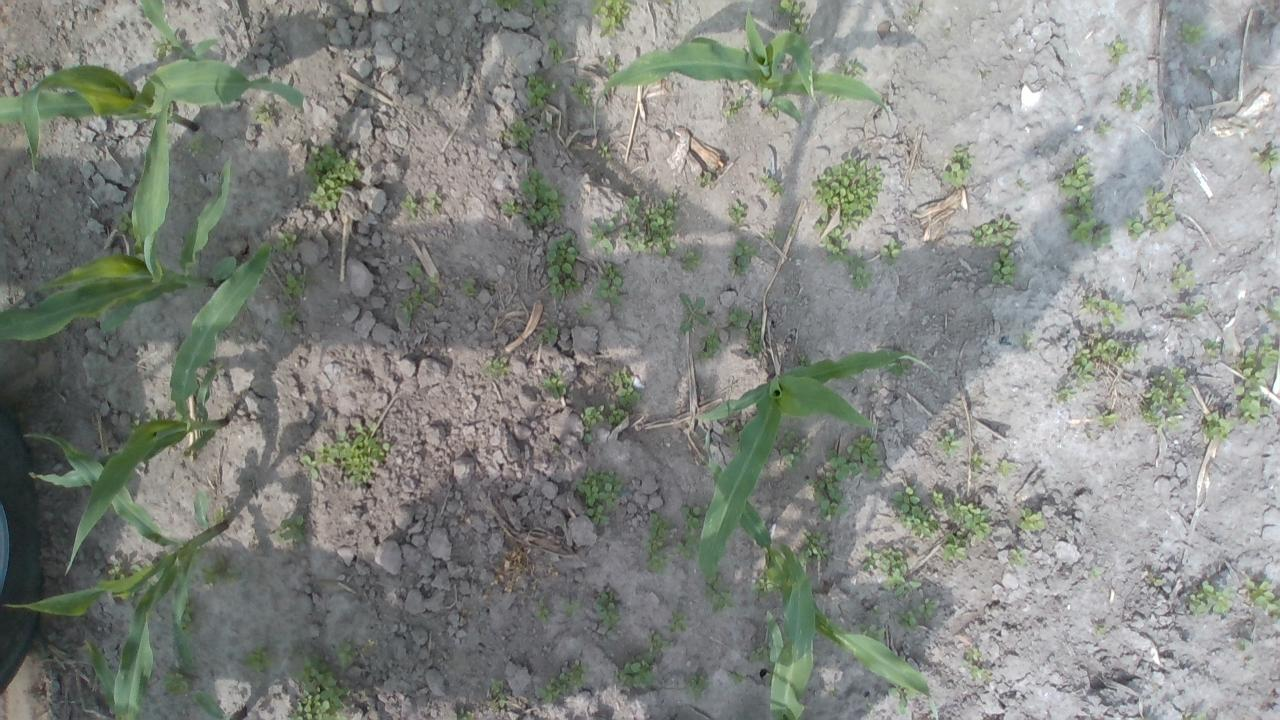Maize: (28, 241, 274, 580), (702, 427, 938, 720), (1, 427, 231, 720), (0, 84, 238, 342), (691, 345, 935, 580), (0, 39, 307, 171), (592, 8, 894, 138), (81, 632, 248, 720), (761, 543, 815, 720), (132, 0, 208, 59)
Weeds: (296, 419, 390, 486), (809, 155, 885, 232), (1052, 154, 1112, 250), (1232, 331, 1280, 425), (618, 188, 680, 258), (287, 654, 351, 720), (303, 142, 362, 212), (808, 448, 859, 521), (1141, 365, 1192, 432), (861, 544, 922, 598), (573, 465, 622, 527), (890, 485, 946, 538), (520, 167, 565, 227), (546, 232, 582, 300), (536, 658, 586, 704), (946, 496, 991, 540), (642, 512, 672, 576), (1186, 580, 1236, 616), (845, 434, 884, 480), (1090, 332, 1146, 364), (673, 506, 706, 559), (1142, 186, 1176, 234), (1244, 574, 1280, 618), (1080, 296, 1126, 330), (778, 428, 812, 474), (591, 0, 630, 39), (940, 146, 976, 187), (592, 262, 624, 308), (618, 652, 658, 688), (609, 364, 643, 406), (702, 572, 736, 614), (497, 117, 536, 152), (971, 217, 1017, 246), (678, 290, 709, 333), (726, 238, 760, 277), (592, 585, 624, 626), (524, 73, 560, 109), (796, 530, 830, 568), (200, 554, 238, 588), (586, 212, 616, 255), (988, 246, 1021, 284), (819, 226, 852, 264), (1070, 340, 1096, 388), (1114, 84, 1154, 112), (1199, 411, 1236, 441), (579, 402, 605, 444), (396, 286, 424, 324), (273, 513, 306, 544), (242, 644, 274, 675), (888, 682, 916, 717), (849, 250, 873, 290), (934, 427, 966, 456), (885, 346, 915, 376), (750, 570, 779, 600), (162, 669, 192, 698), (941, 533, 970, 561), (1175, 20, 1208, 44), (481, 354, 514, 378), (540, 368, 566, 398), (698, 329, 722, 360), (1172, 264, 1198, 292), (1252, 148, 1280, 174), (250, 100, 276, 128), (568, 80, 594, 108), (684, 675, 710, 703), (1015, 507, 1044, 532), (152, 33, 177, 61), (758, 172, 786, 197), (746, 318, 764, 356), (182, 600, 202, 634), (398, 194, 424, 220), (334, 638, 358, 666), (486, 678, 507, 710), (281, 272, 308, 296), (1104, 39, 1128, 64), (546, 38, 566, 66), (880, 238, 900, 266), (892, 608, 916, 631), (860, 623, 886, 644), (729, 306, 750, 332), (644, 631, 670, 652), (964, 662, 991, 682), (33, 632, 51, 662), (1122, 216, 1144, 240), (272, 230, 296, 252), (724, 95, 746, 119), (748, 642, 772, 663), (838, 60, 866, 78), (276, 306, 296, 331), (681, 250, 706, 270), (668, 610, 688, 634), (918, 597, 938, 621), (1054, 383, 1078, 403), (775, 0, 805, 16), (1178, 298, 1204, 316), (1202, 337, 1224, 358), (994, 458, 1018, 477), (115, 210, 133, 235), (1263, 298, 1280, 324), (404, 258, 424, 280), (533, 600, 553, 622), (534, 324, 558, 342), (606, 403, 626, 424), (560, 597, 582, 616), (188, 133, 206, 156), (728, 200, 745, 224), (1006, 548, 1026, 568), (1096, 411, 1119, 428), (788, 17, 808, 36), (488, 0, 524, 10), (576, 300, 596, 318), (501, 198, 522, 215), (108, 560, 125, 580), (530, 0, 558, 12), (426, 190, 442, 211), (459, 277, 476, 296), (1020, 330, 1036, 350), (729, 668, 746, 686), (596, 141, 612, 160), (968, 450, 984, 468), (724, 421, 740, 439), (762, 229, 782, 243), (423, 276, 438, 294), (1096, 120, 1112, 136), (1236, 636, 1252, 652), (124, 418, 140, 434), (696, 172, 712, 188), (604, 56, 618, 74), (964, 647, 980, 661), (1088, 565, 1104, 579), (1145, 575, 1165, 586), (451, 708, 469, 720), (129, 562, 144, 576), (796, 353, 812, 366), (863, 699, 875, 714), (1184, 713, 1208, 720), (729, 442, 742, 454), (764, 106, 778, 117), (1092, 624, 1106, 635), (908, 5, 920, 17), (786, 224, 798, 236), (828, 92, 841, 103), (148, 410, 160, 421), (146, 580, 156, 590), (15, 60, 26, 66), (488, 286, 495, 294)
